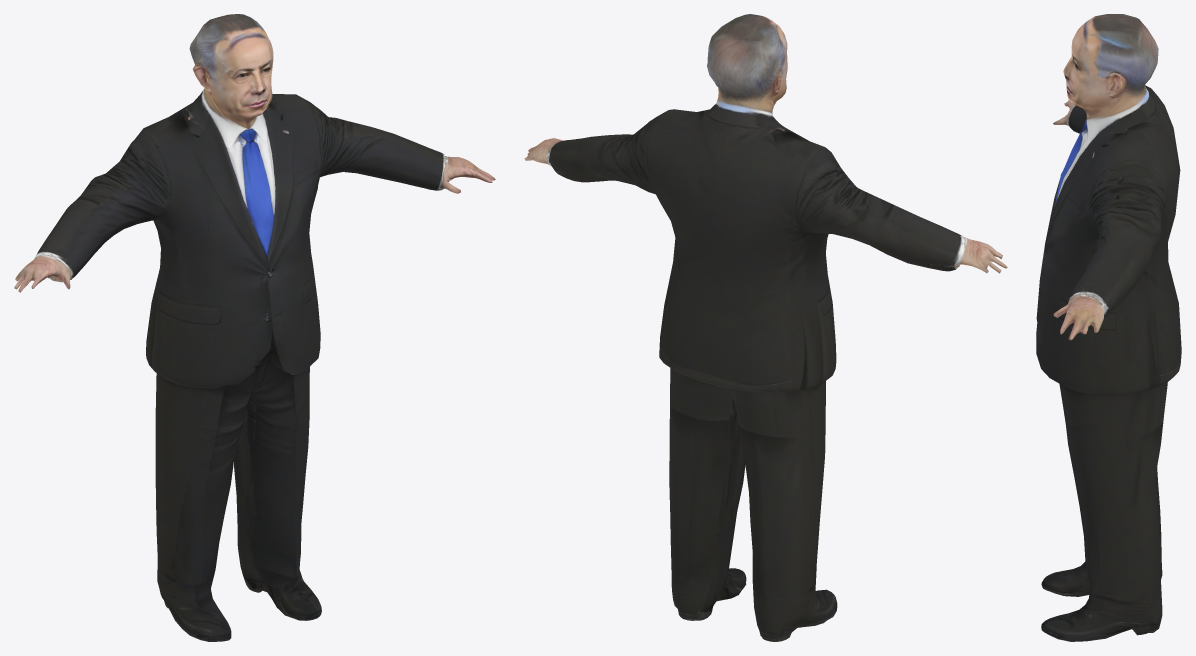
Rendered from suit guy boss.glb.
3 views of the same model, side by side, from view 1: azimuth 30°, elevation 25°; view 2: azimuth 150°, elevation 25°; view 3: azimuth 270°, elevation 25° (orthographic).
Parts seen in each view (by area): view 1: Benjamin_Netanyahu; view 2: Benjamin_Netanyahu; view 3: Benjamin_Netanyahu.
Boxes of the visible parts, bbox=[...] form: Benjamin_Netanyahu: bbox=[14, 14, 495, 641]; Benjamin_Netanyahu: bbox=[524, 14, 1007, 641]; Benjamin_Netanyahu: bbox=[1036, 14, 1181, 641].
Size of the model in its own units: 1.69 by 2 by 0.4436.
1 material, 1 textured.
